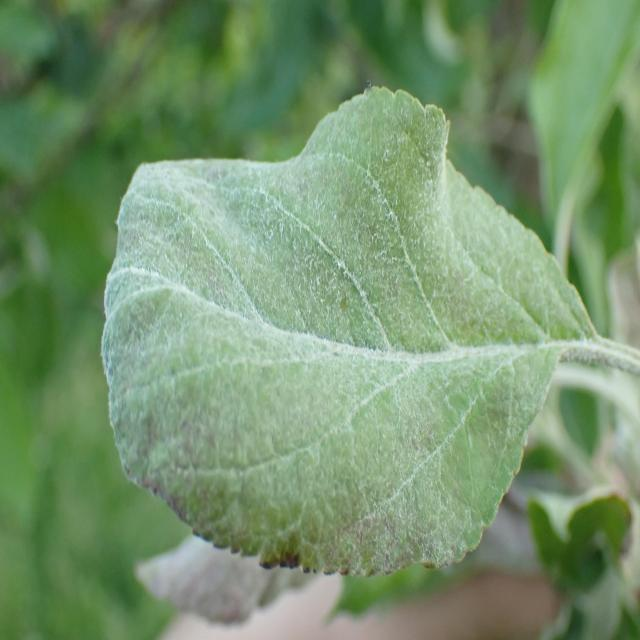Powdery_mildew: (105, 83, 613, 578)
